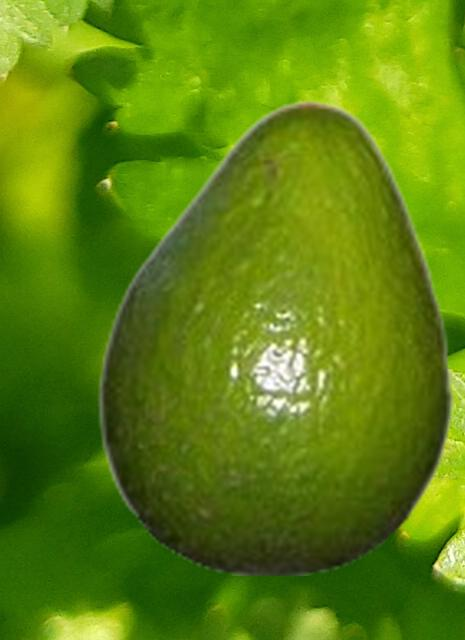avocado: (96, 98, 452, 574)
